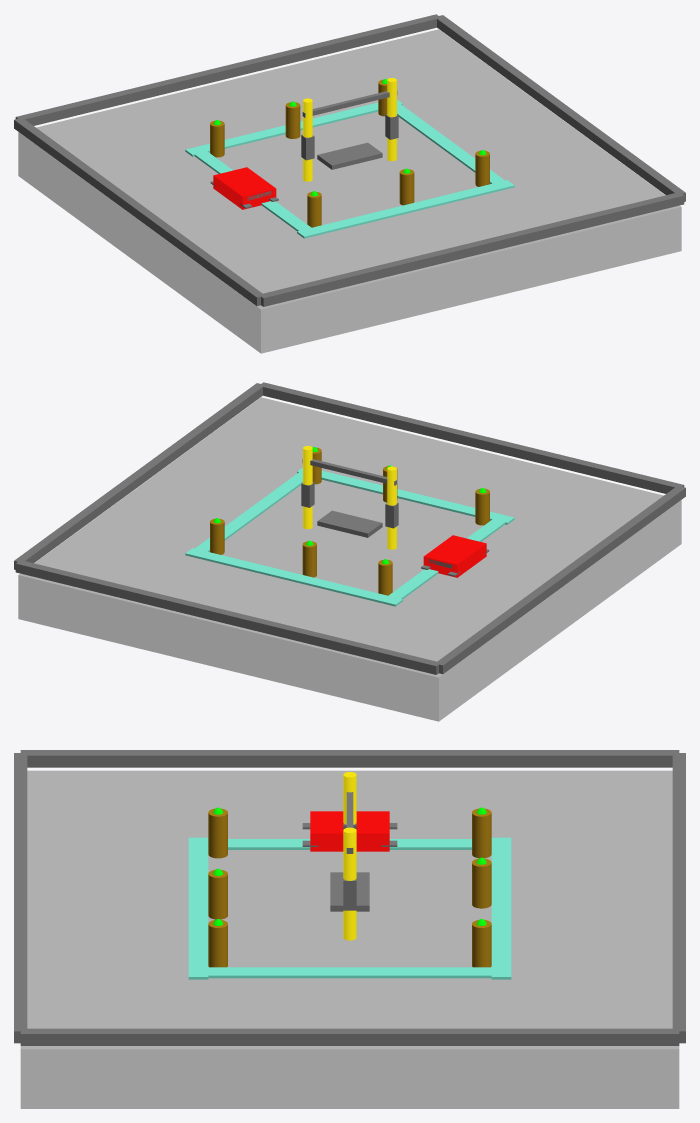
The model's file is Mobil.gltf.
3 views of the same model, one above another, from view 1: azimuth 30°, elevation 25°; view 2: azimuth 150°, elevation 25°; view 3: azimuth 270°, elevation 25° (orthographic). The views are drawn at different scales.
Visible parts, largest first — view 1: Taman, Pagardepan, Pagarbelakang, Pagarkanan, Pagarkiri, trotoardepan, Mobil, trotoarbelakang, trotoarkiri, KursiAyunan, trotoarkanan, TaliKanan (+4 smaller); view 2: Taman, Pagarbelakang, Pagardepan, Pagarkanan, Pagarkiri, trotoarbelakang, Mobil, trotoardepan, trotoarkiri, KursiAyunan, trotoarkanan, TaliKanan (+2 smaller); view 3: Taman, Pagarkiri, Pagarkanan, Pagardepan, Pagarbelakang, trotoarkiri, trotoardepan, trotoarbelakang, Mobil, trotoarkanan, TaliKiri, KursiAyunan (+6 smaller).
Boxes of the visible parts, left/top/right/bottom form: Taman: left=18, top=29, right=681, bottom=353; Pagardepan: left=261, top=192, right=684, bottom=306; Pagarbelakang: left=15, top=14, right=440, bottom=125; Pagarkanan: left=14, top=118, right=264, bottom=306; Pagarkiri: left=435, top=15, right=685, bottom=201; trotoardepan: left=297, top=180, right=514, bottom=238; Mobil: left=213, top=167, right=276, bottom=209; trotoarbelakang: left=185, top=99, right=402, bottom=156; trotoarkiri: left=397, top=102, right=504, bottom=183; KursiAyunan: left=317, top=142, right=382, bottom=169; trotoarkanan: left=194, top=151, right=313, bottom=232; TaliKanan: left=303, top=98, right=312, bottom=181; Taman: left=18, top=397, right=681, bottom=721; Pagarbelakang: left=15, top=560, right=438, bottom=674; Pagardepan: left=259, top=382, right=684, bottom=493; Pagarkanan: left=435, top=486, right=685, bottom=674; Pagarkiri: left=14, top=383, right=264, bottom=569; trotoarbelakang: left=185, top=548, right=402, bottom=606; Mobil: left=423, top=535, right=486, bottom=577; trotoardepan: left=297, top=467, right=514, bottom=524; trotoarkiri: left=195, top=470, right=302, bottom=551; KursiAyunan: left=317, top=510, right=382, bottom=537; trotoarkanan: left=386, top=519, right=505, bottom=600; TaliKanan: left=387, top=466, right=396, bottom=549; Taman: left=20, top=770, right=679, bottom=1108; Pagarkiri: left=20, top=1028, right=679, bottom=1045; Pagarkanan: left=20, top=750, right=679, bottom=767; Pagardepan: left=14, top=753, right=27, bottom=1043; Pagarbelakang: left=672, top=753, right=685, bottom=1043; trotoarkiri: left=201, top=967, right=498, bottom=978; trotoardepan: left=188, top=837, right=208, bottom=979; trotoarbelakang: left=491, top=837, right=511, bottom=979; Mobil: left=310, top=811, right=389, bottom=851; trotoarkanan: left=201, top=839, right=498, bottom=849; TaliKiri: left=343, top=827, right=356, bottom=940; KursiAyunan: left=330, top=872, right=369, bottom=911.
Bounding box in the file's own units: 10.2 × 2.8 × 10.2.
